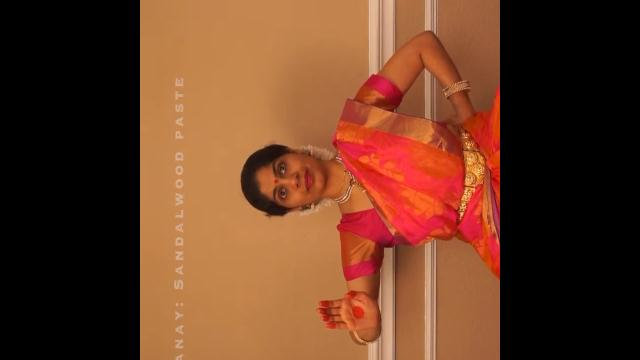sarpsheesh: (308, 274, 390, 342)
